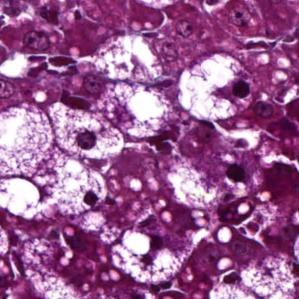ballooning: (176, 51, 258, 123), (46, 100, 127, 164), (108, 228, 185, 286)
